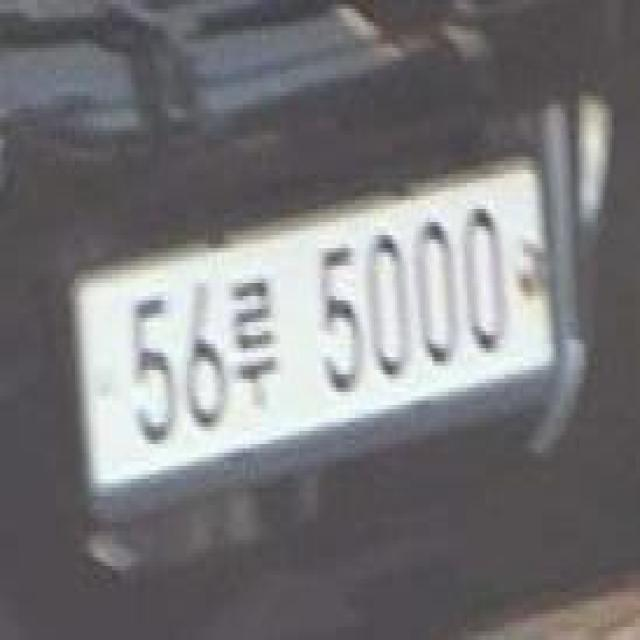illegal_plate: (76, 156, 558, 512)
